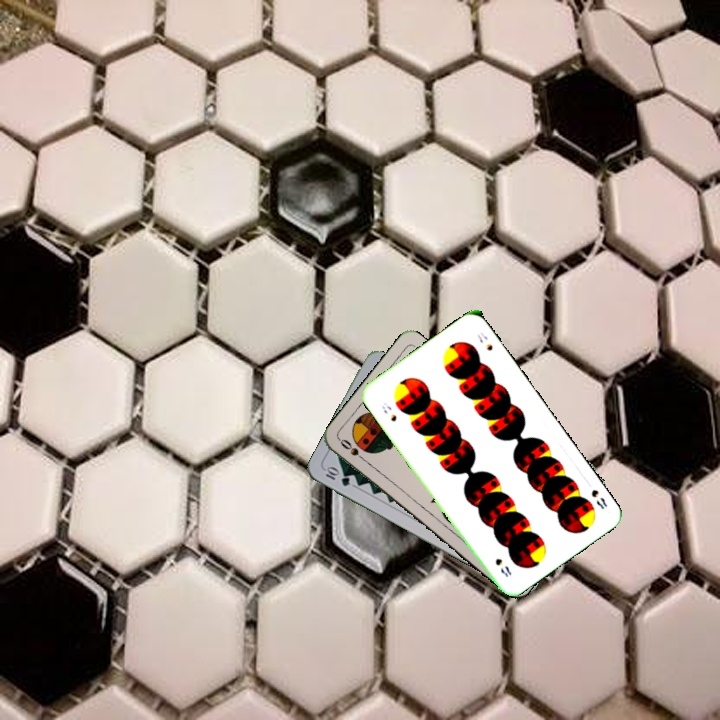G10: (320, 463, 353, 489)
S8: (587, 485, 610, 512), (377, 398, 399, 424)
SO: (336, 435, 370, 465)
